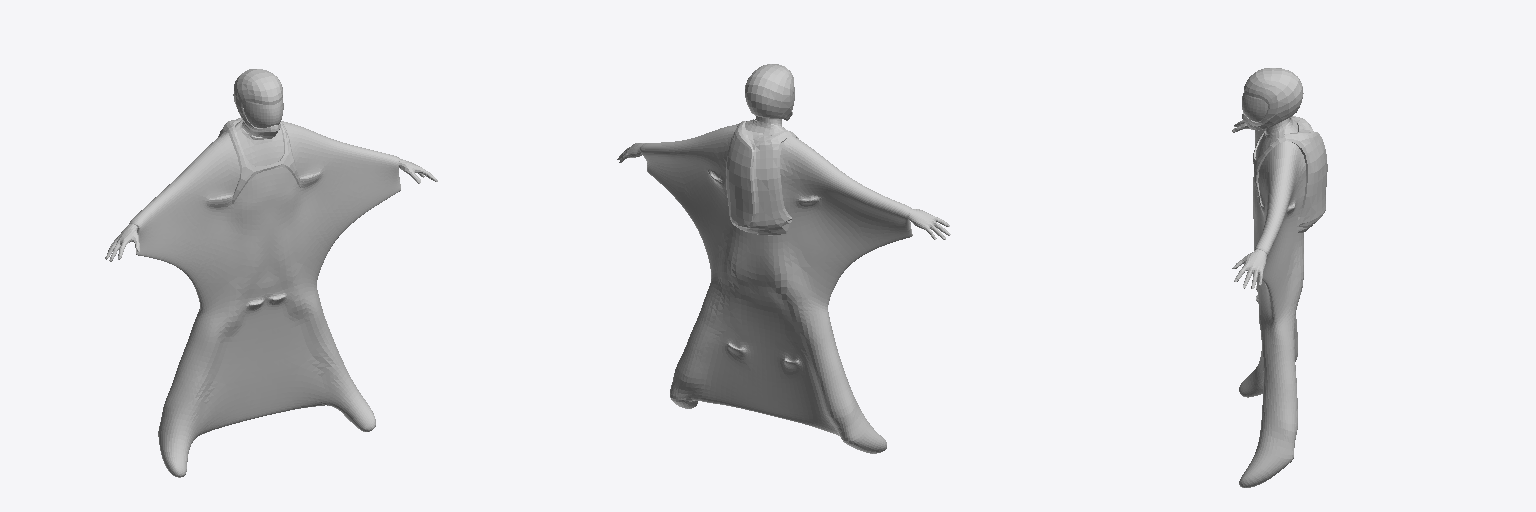
File: wingsuit3.obj
3 views of the same model, side by side, from view 1: azimuth 30°, elevation 25°; view 2: azimuth 150°, elevation 25°; view 3: azimuth 270°, elevation 25° (orthographic).
Visible parts, largest first — view 1: WINGSUIT_FLYER, HELMET; view 2: WINGSUIT_FLYER, HELMET; view 3: WINGSUIT_FLYER, HELMET.
Boxes of the visible parts, x1=… form: WINGSUIT_FLYER: x1=105, y1=118, x2=437, y2=477; HELMET: x1=233, y1=69, x2=283, y2=138; WINGSUIT_FLYER: x1=617, y1=116, x2=950, y2=453; HELMET: x1=745, y1=64, x2=794, y2=120; WINGSUIT_FLYER: x1=1232, y1=116, x2=1327, y2=487; HELMET: x1=1242, y1=68, x2=1303, y2=130.
Size of the model in its own units: 67.99 by 73.36 by 17.08.